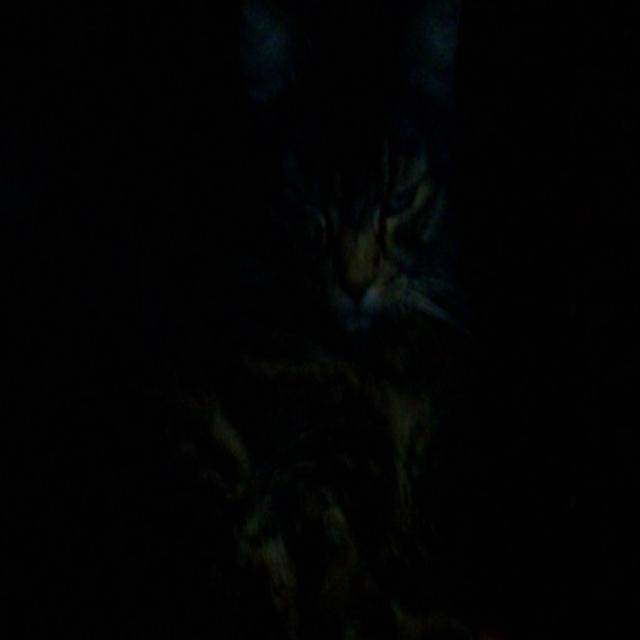Cat: (27, 4, 469, 640)
